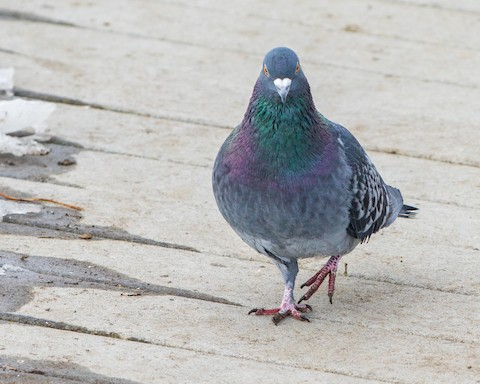pigeon: (210, 40, 424, 329)
